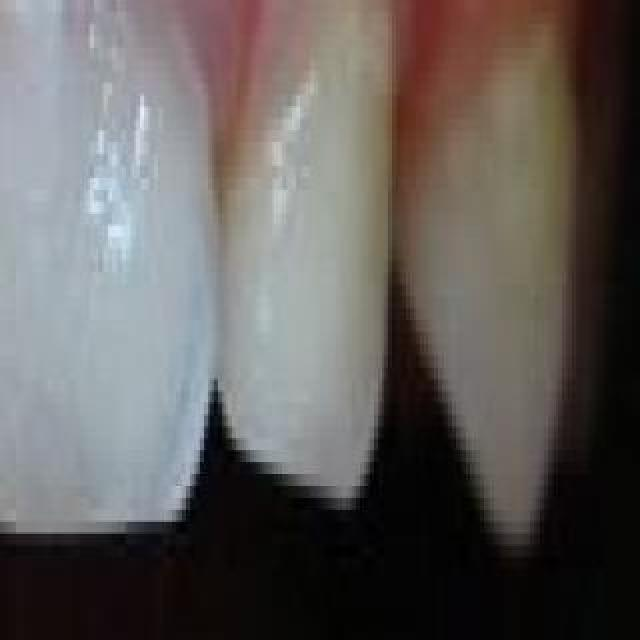spacing: (333, 30, 477, 480)
